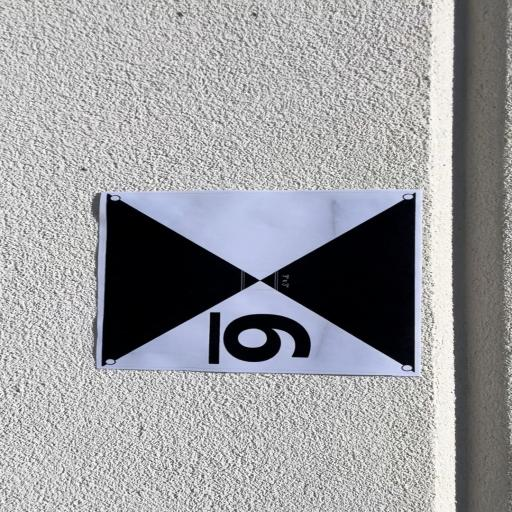target6: (95, 188, 423, 376)
